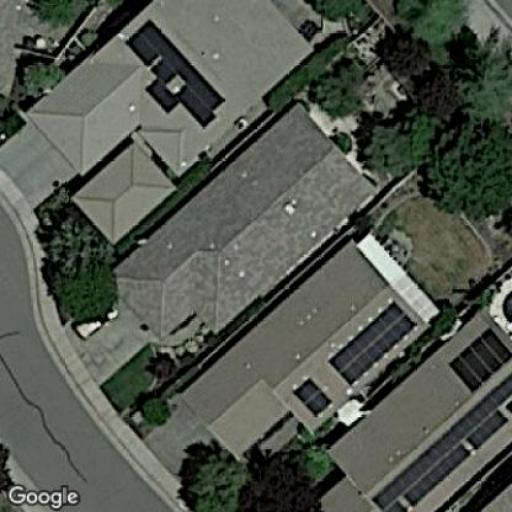solar-panel: (366, 376, 510, 506), (123, 16, 227, 128), (326, 299, 419, 387), (446, 326, 512, 393), (293, 372, 331, 418)
